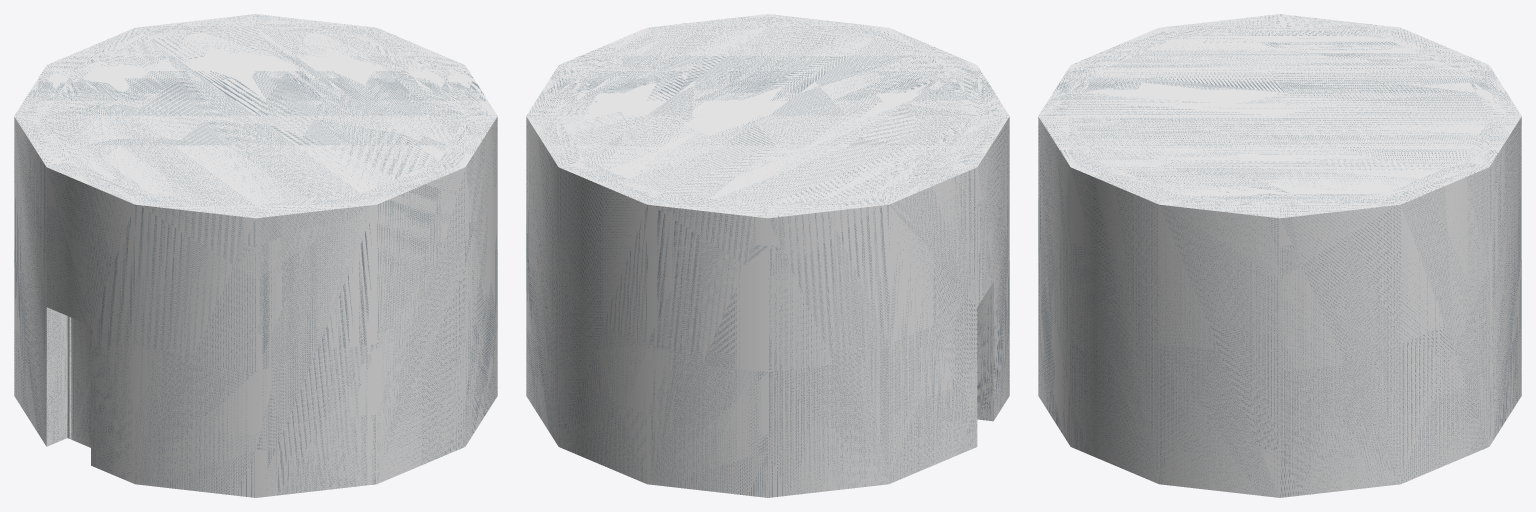
File: build08.fbx
3 renders of one model, left to right at view 1: azimuth 30°, elevation 25°; view 2: azimuth 150°, elevation 25°; view 3: azimuth 270°, elevation 25°, orthographic.
Visible parts, largest first — view 1: Group1; view 2: Group1; view 3: Group1.
Part boxes in pixels (<box>): Group1: <box>14,14,497,497</box>; Group1: <box>526,14,1009,497</box>; Group1: <box>1038,14,1521,497</box>.
Size of the model in its own units: 20973 by 13383 by 20973.
